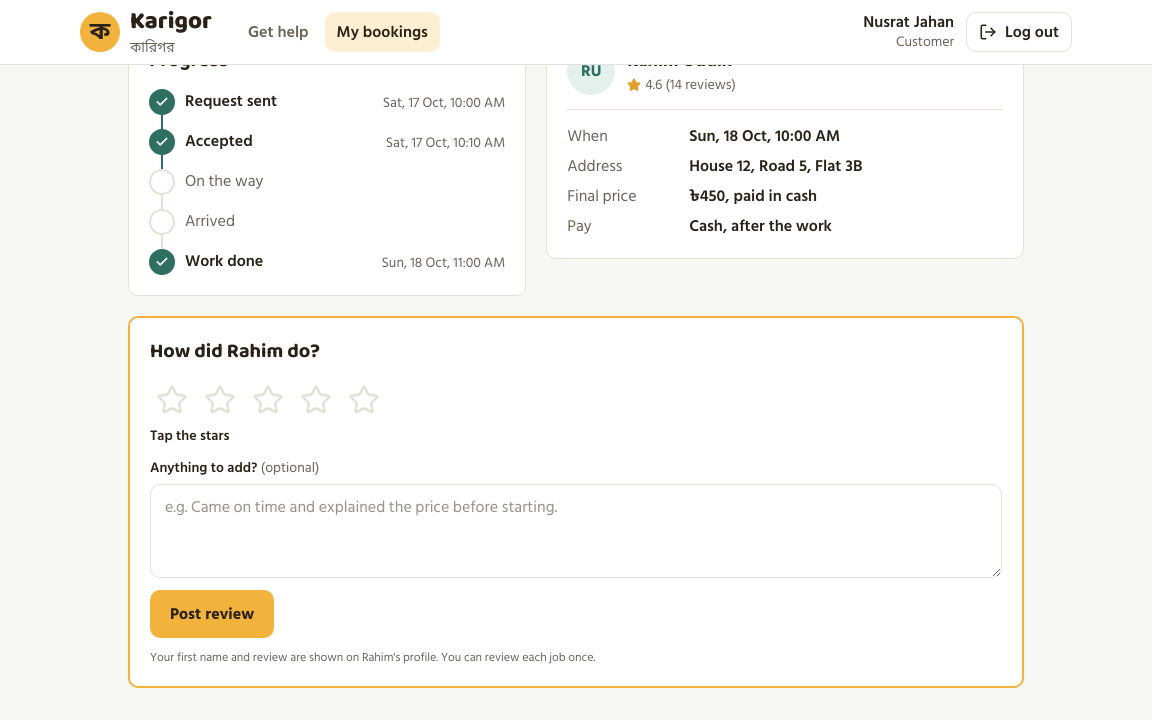
Review › rates the karigor after the job, once
(page scrolled)
Click the button "Post review".
click(212, 614)  # box [150,590,274,638]
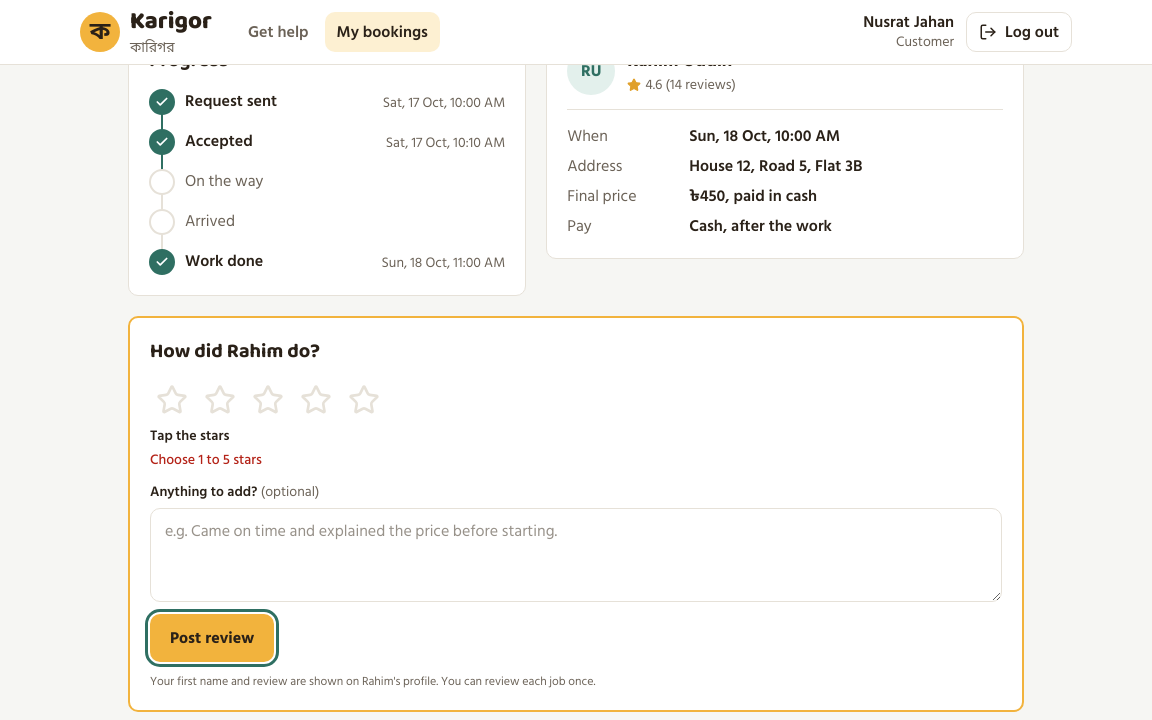
Check: the text "Choose 1 to 5 stars" is shown, box [150,448,262,471]
Click the radio button named "4 stars: Good".
click(316, 400)  # box [294,378,338,422]
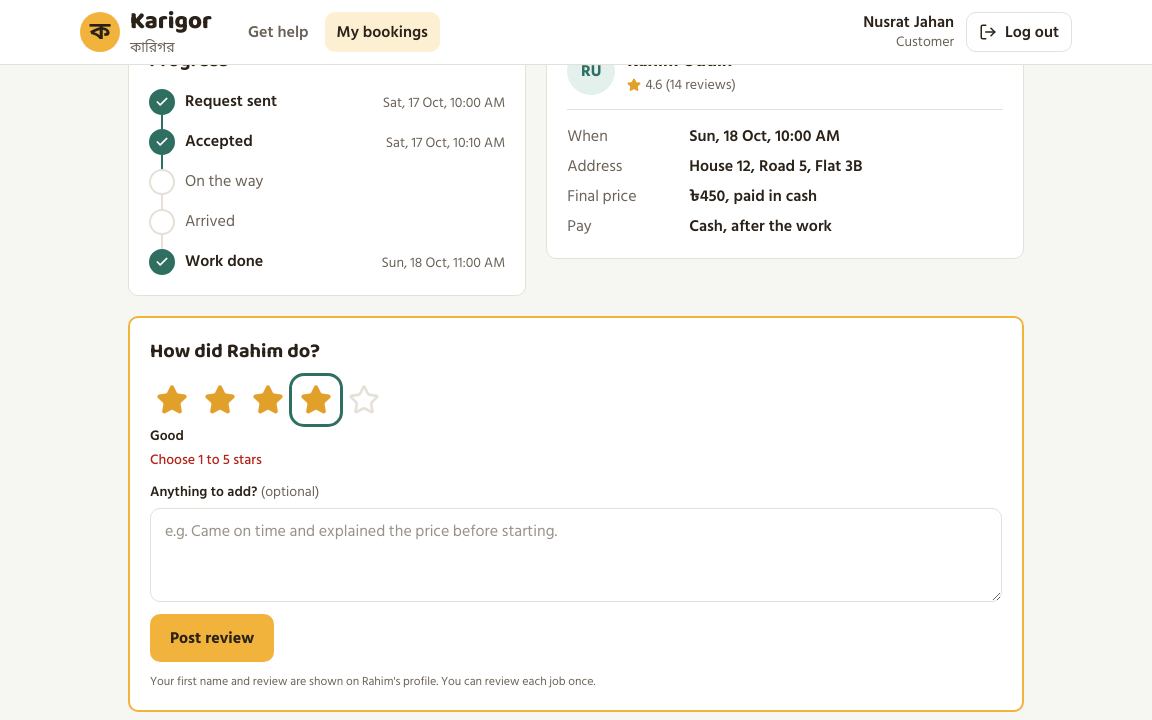
Check: the radio button named "4 stars: Good" is checked, box [294,378,338,422]
Type "Fair price" into the text box labelled "Anything to add? (optional)".
click(576, 555); type("Fair price")  # box [150,508,1002,602]
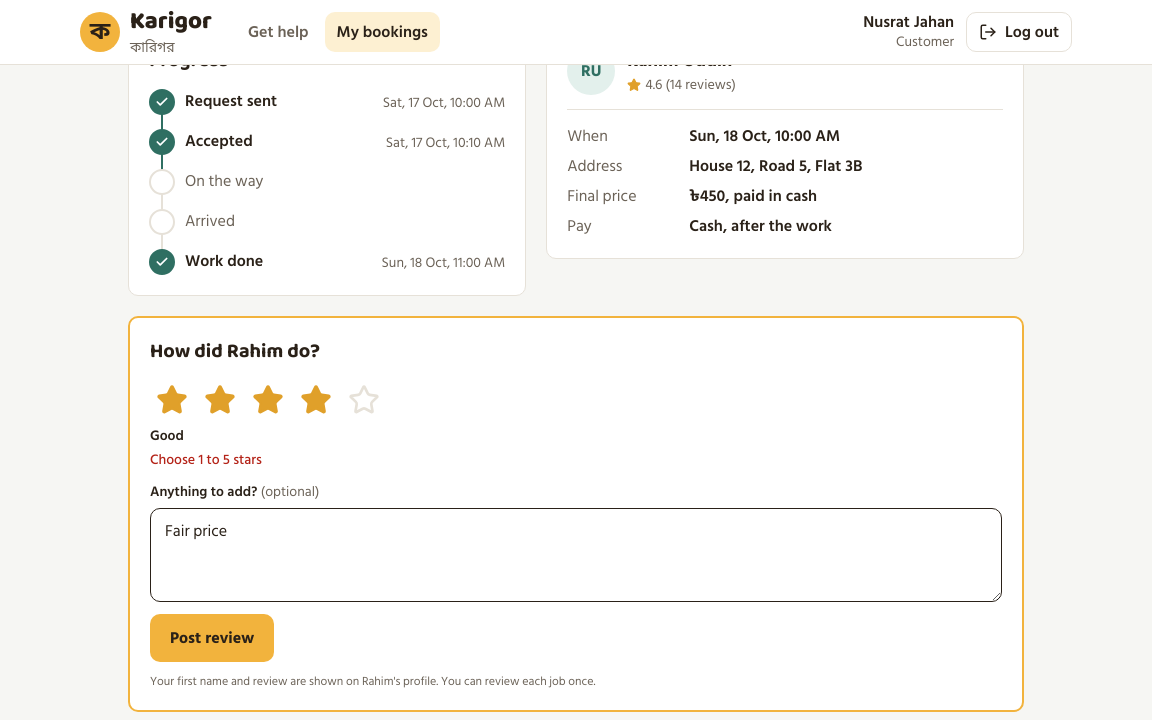
Click the button "Post review".
click(212, 638)  # box [150,614,274,662]
(page scrolled)
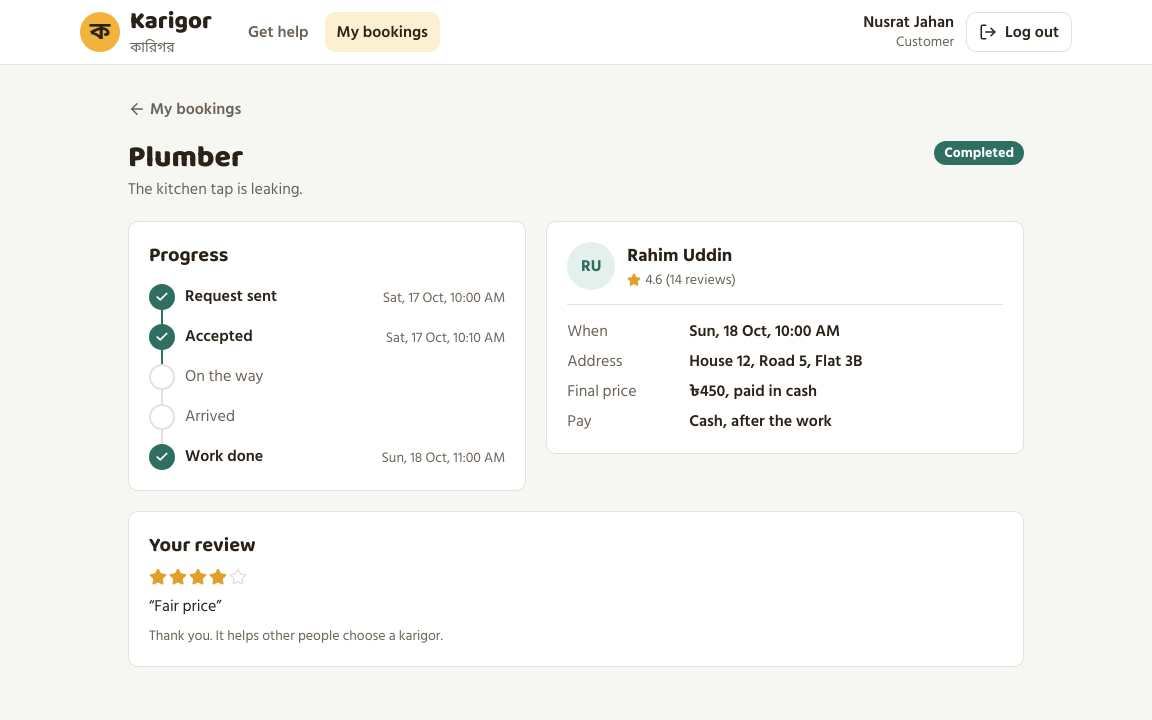
Check: the picture named "4 out of 5 stars" is shown, box [149,568,247,586]
Check: the text "“Fair price”" is shown, box [149,593,222,619]
